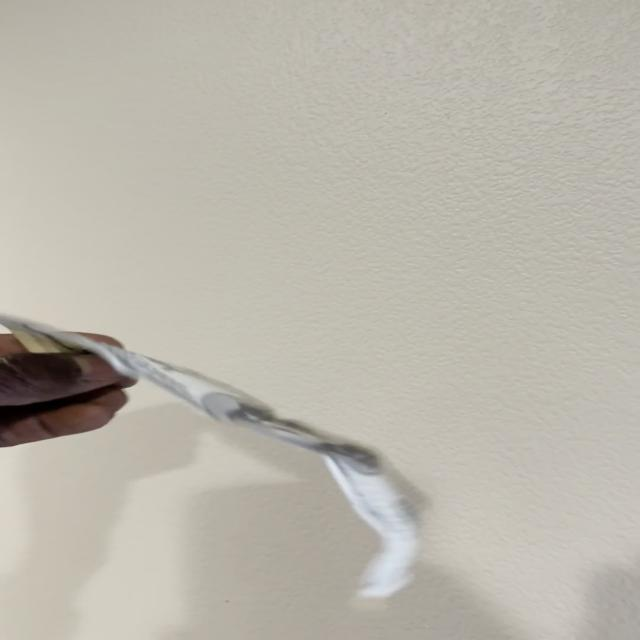hundred: (3, 314, 434, 608)
